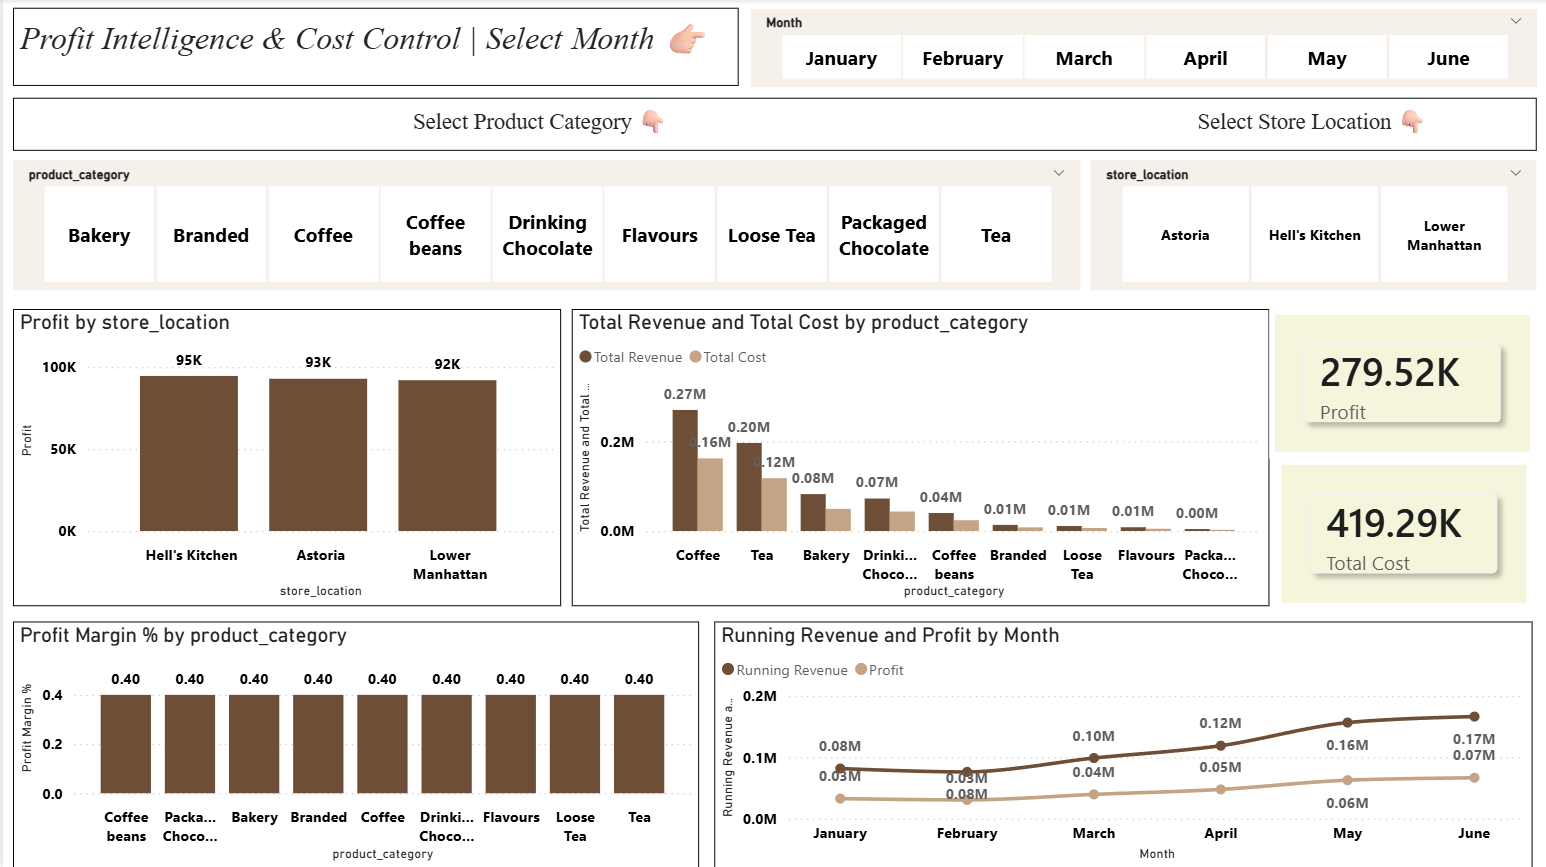

The page's visual inventory and layout, read from the dashboard file:
{"tool":"powerbi","page":{"name":"Page 4","canvas":[1280,720],"ordinal":3},"visuals":[{"type":"slicer","fields":{"Values":["CoffeeShopSales_cleaned.store_location"]},"box":[901.7,133.5,370,107.8],"z":0},{"type":"slicer","fields":{"Values":["CoffeeShopSales_cleaned.Month"]},"box":[619.7,7.8,652.1,64.8],"z":1000},{"type":"textbox","box":[8.6,7.4,601.5,64.9],"z":2000},{"type":"textbox","box":[8.6,82.1,1263.1,44.1],"z":3000},{"type":"slicer","fields":{"Values":["CoffeeShopSales_cleaned.product_category"]},"box":[8.6,133.5,884.5,107.8],"z":4000},{"type":"clusteredColumnChart","fields":{"Category":["CoffeeShopSales_cleaned.product_category"],"Y":["CoffeeShopSales_cleaned.Profit Margin %"]},"box":[8.6,515.8,568.5,204.6],"z":5000},{"type":"clusteredColumnChart","fields":{"Category":["CoffeeShopSales_cleaned.product_category"],"Y":["CoffeeShopSales_cleaned.Total Revenue","CoffeeShopSales_cleaned.Total Cost"]},"box":[471.7,257.3,578.3,246.2],"z":6000},{"type":"lineChart","fields":{"Category":["CoffeeShopSales_cleaned.Month"],"Y":["CoffeeShopSales_cleaned.Running Revenue","CoffeeShopSales_cleaned.Profit"]},"box":[589.3,515.8,678.7,204.6],"z":7000},{"type":"clusteredColumnChart","fields":{"Y":["CoffeeShopSales_cleaned.Profit"],"Category":["CoffeeShopSales_cleaned.store_location"]},"box":[8.6,257.3,454.5,246.2],"z":8000},{"type":"cardVisual","fields":{"Data":["CoffeeShopSales_cleaned.Profit"]},"box":[1049.9,257.3,221.7,123.7],"z":9000},{"type":"cardVisual","fields":{"Data":["CoffeeShopSales_cleaned.Total Cost"]},"box":[1054.8,381,213.2,125],"z":10000}]}

Visuals, with their boxes in screenshot pixels (x1, y1, x2, y2), scaled from the page's 1280x720 canvas onto the 1546x867 screenshot:
slicer - CoffeeShopSales_cleaned.store_location: bbox=(1089, 161, 1536, 291)
slicer - CoffeeShopSales_cleaned.Month: bbox=(748, 9, 1536, 87)
textbox: bbox=(10, 9, 737, 87)
textbox: bbox=(10, 99, 1536, 152)
slicer - CoffeeShopSales_cleaned.product_category: bbox=(10, 161, 1079, 291)
clusteredColumnChart - CoffeeShopSales_cleaned.product_category x CoffeeShopSales_cleaned.Profit Margin %: bbox=(10, 621, 697, 866)
clusteredColumnChart - CoffeeShopSales_cleaned.product_category x CoffeeShopSales_cleaned.Total Revenue: bbox=(570, 310, 1268, 606)
lineChart - CoffeeShopSales_cleaned.Month x CoffeeShopSales_cleaned.Running Revenue: bbox=(712, 621, 1532, 866)
clusteredColumnChart - CoffeeShopSales_cleaned.Profit x CoffeeShopSales_cleaned.store_location: bbox=(10, 310, 559, 606)
cardVisual - CoffeeShopSales_cleaned.Profit: bbox=(1268, 310, 1536, 459)
cardVisual - CoffeeShopSales_cleaned.Total Cost: bbox=(1274, 459, 1532, 609)
